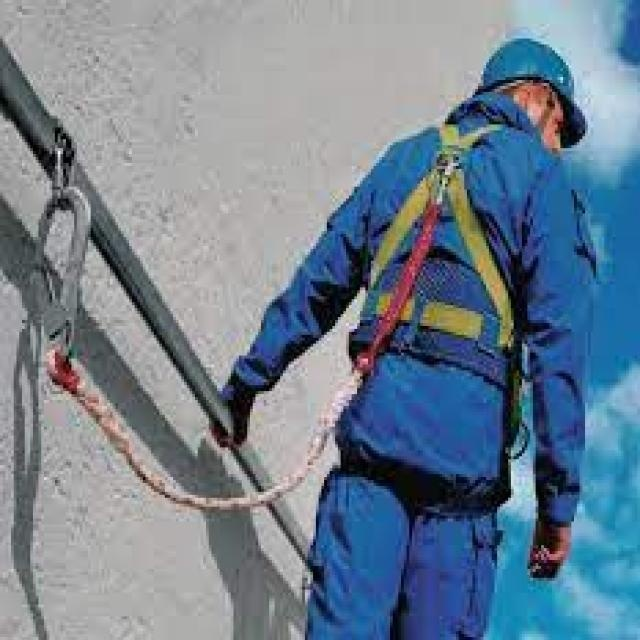Arnes_seguridad: (374, 119, 499, 344)
